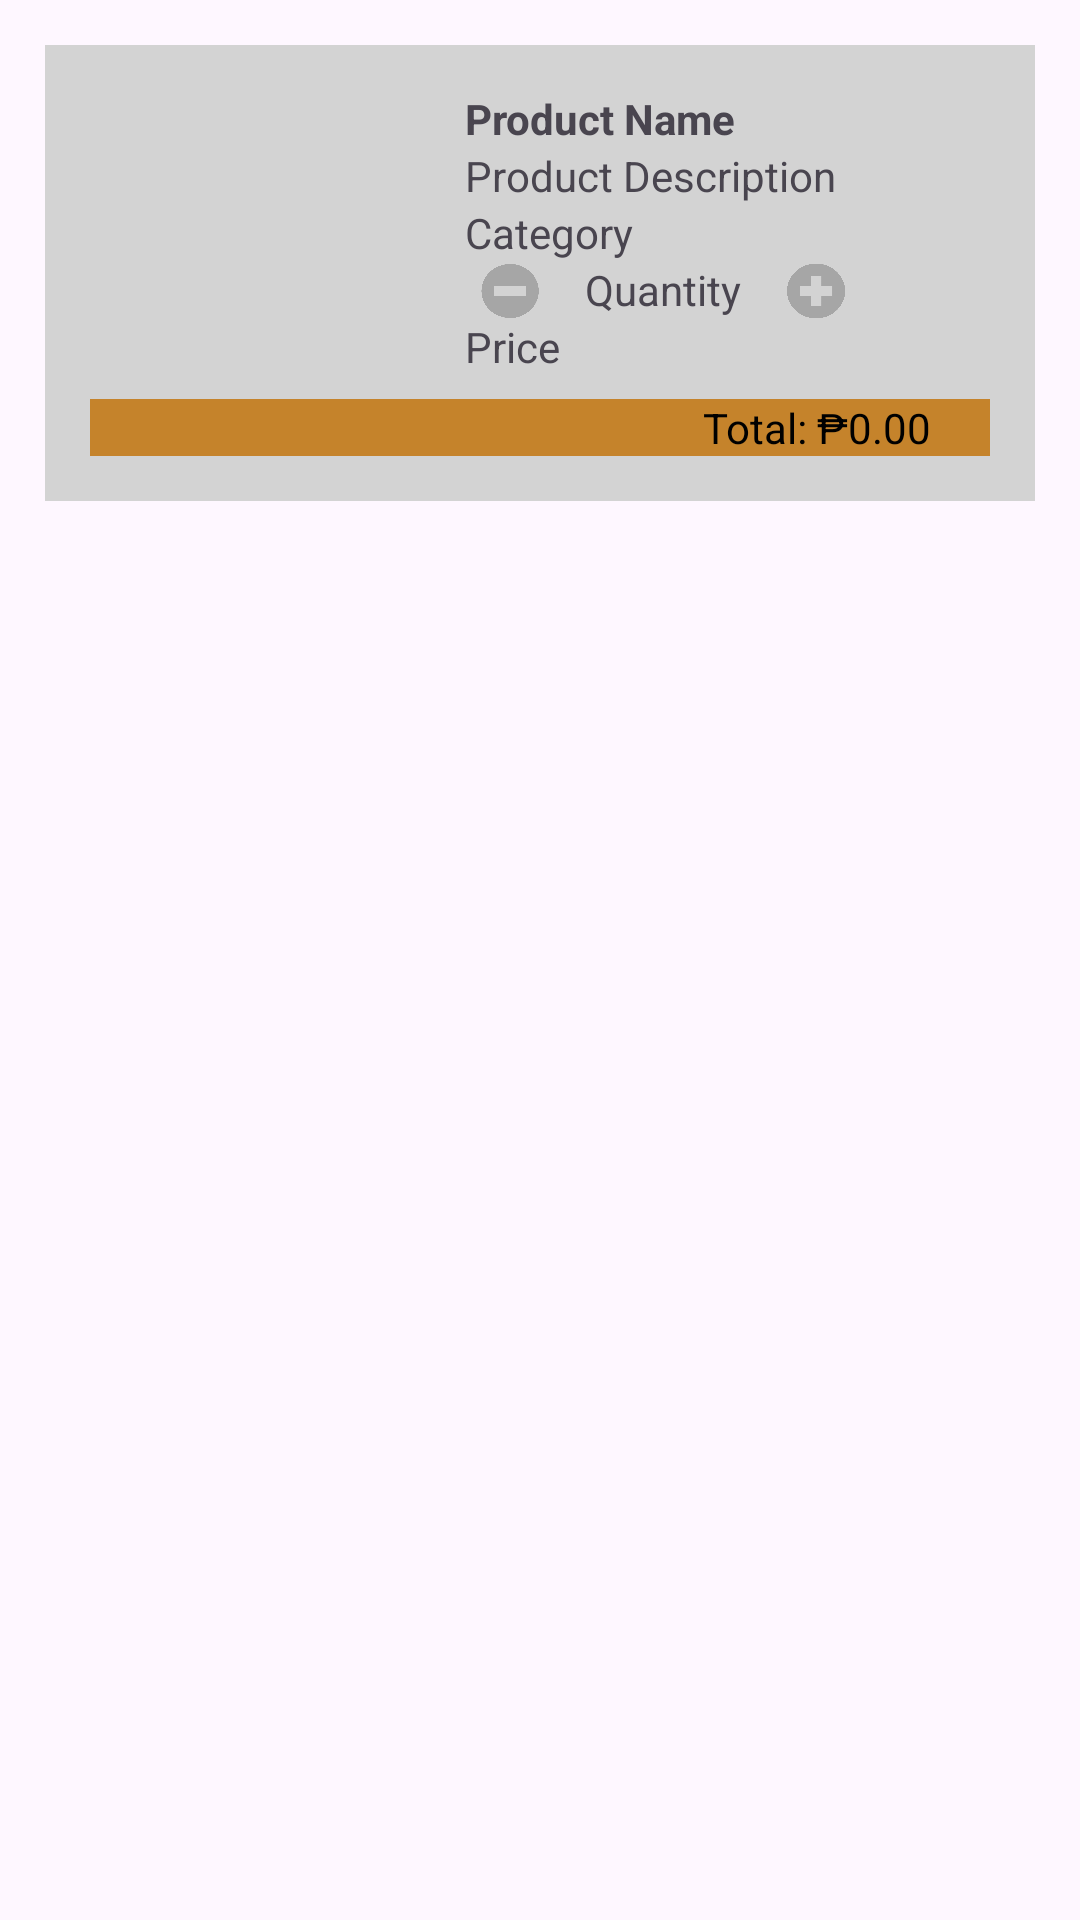

Icon bounding boxes for this 1080px x 1920px phone screenshot, format (x1, y1, x2, y2):
decrease: (481, 264, 539, 318)
increase: (787, 264, 845, 318)
